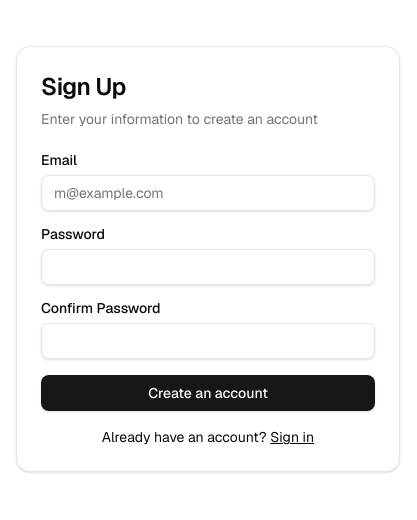
it: SignUp Page › shows validation error for empty email
Click the button "Create an account" at (208, 393), box [41,375,375,411]
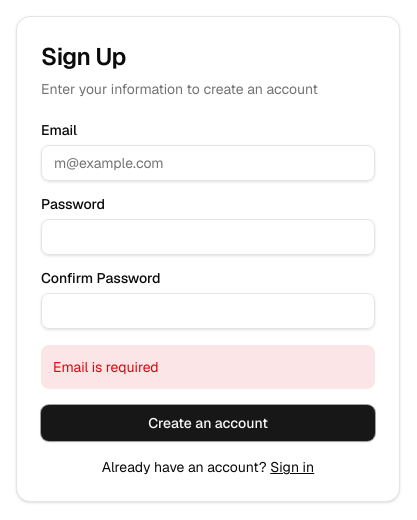
Expected: the message shows "Email", [53,358,159,376]
